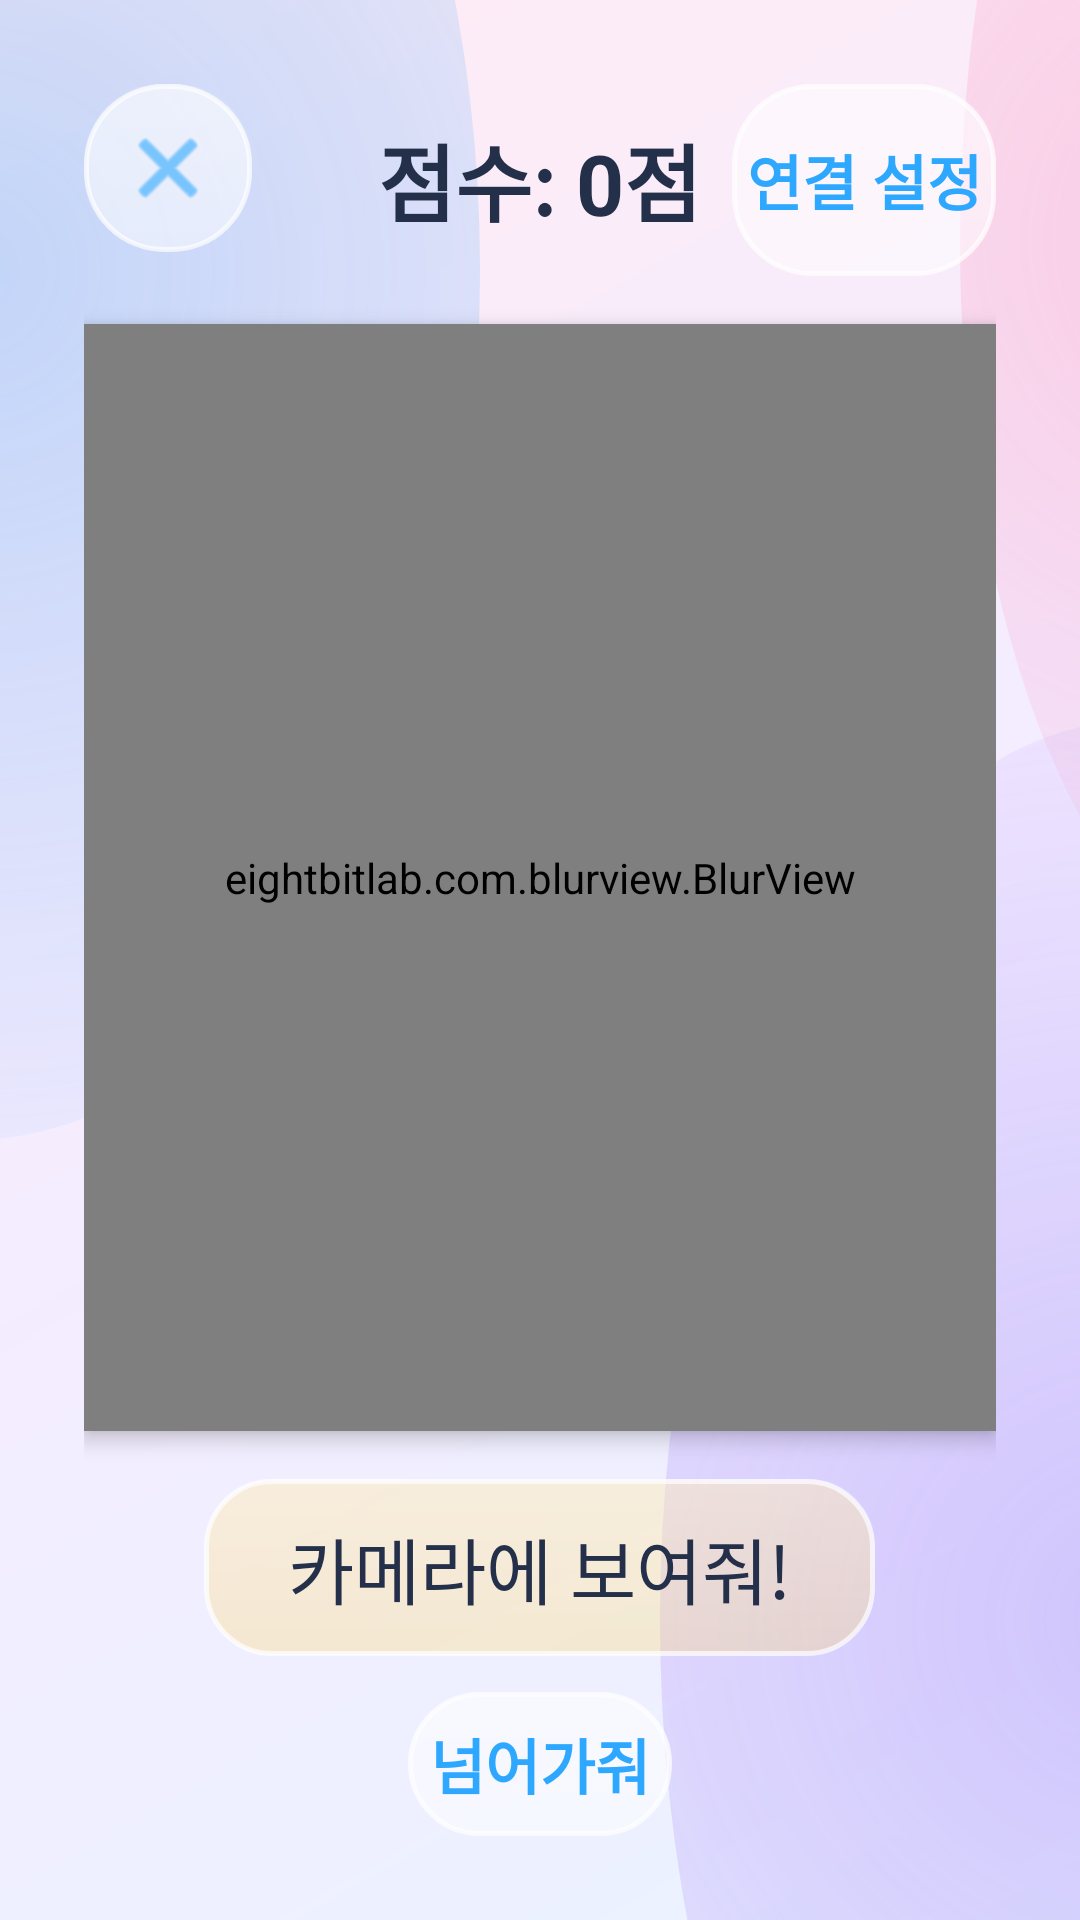

Where icons sit on this 1080w x 1920h app screen, as [x1=x1, y1=y1, x2=x2, y2=y2]:
종료: [x1=84, y1=84, x2=252, y2=252]
